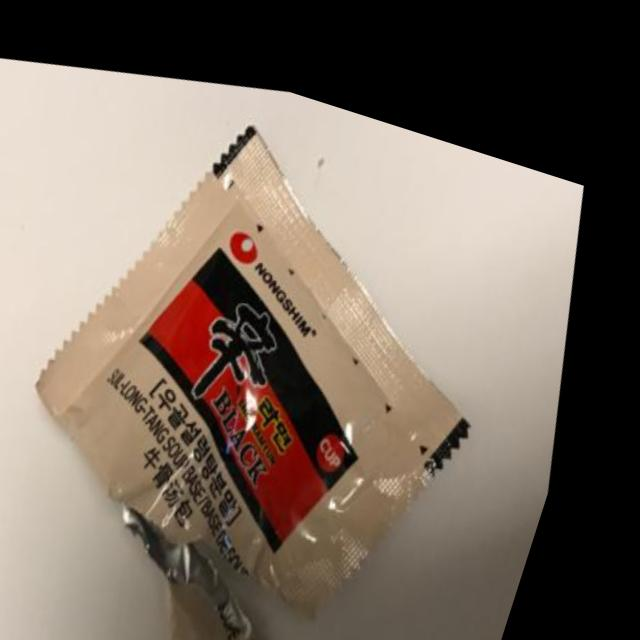trash: (0, 16, 640, 640)
